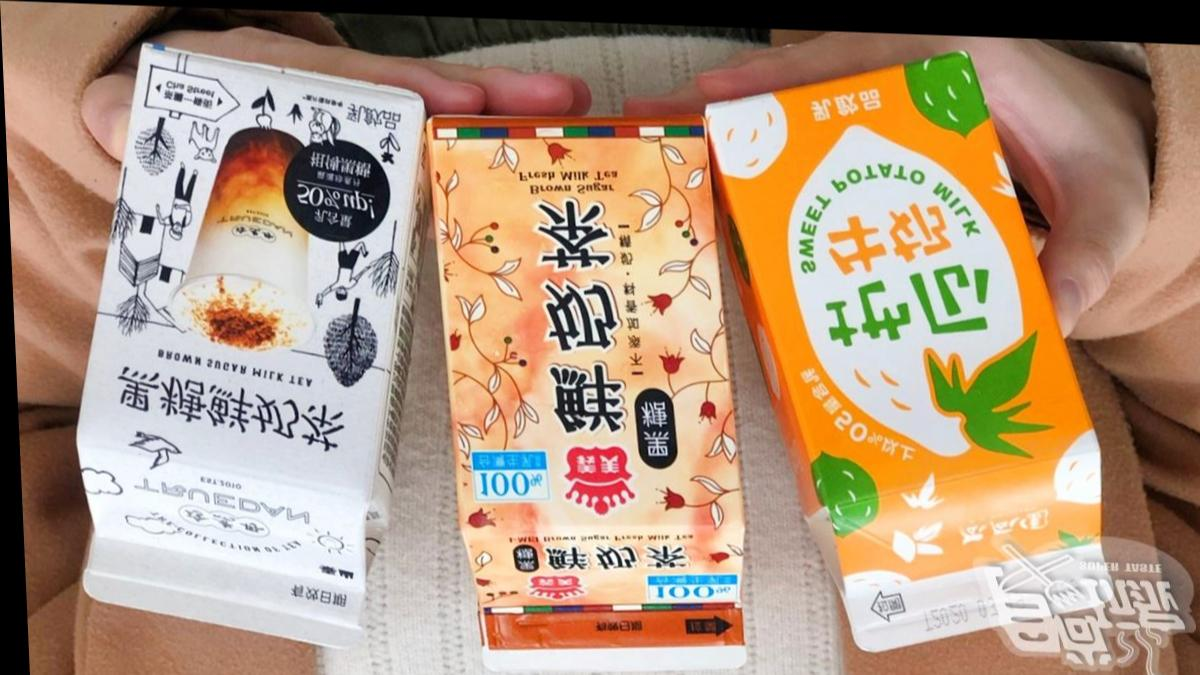cardboard: (711, 38, 1113, 665), (55, 43, 450, 653), (430, 110, 746, 675)
